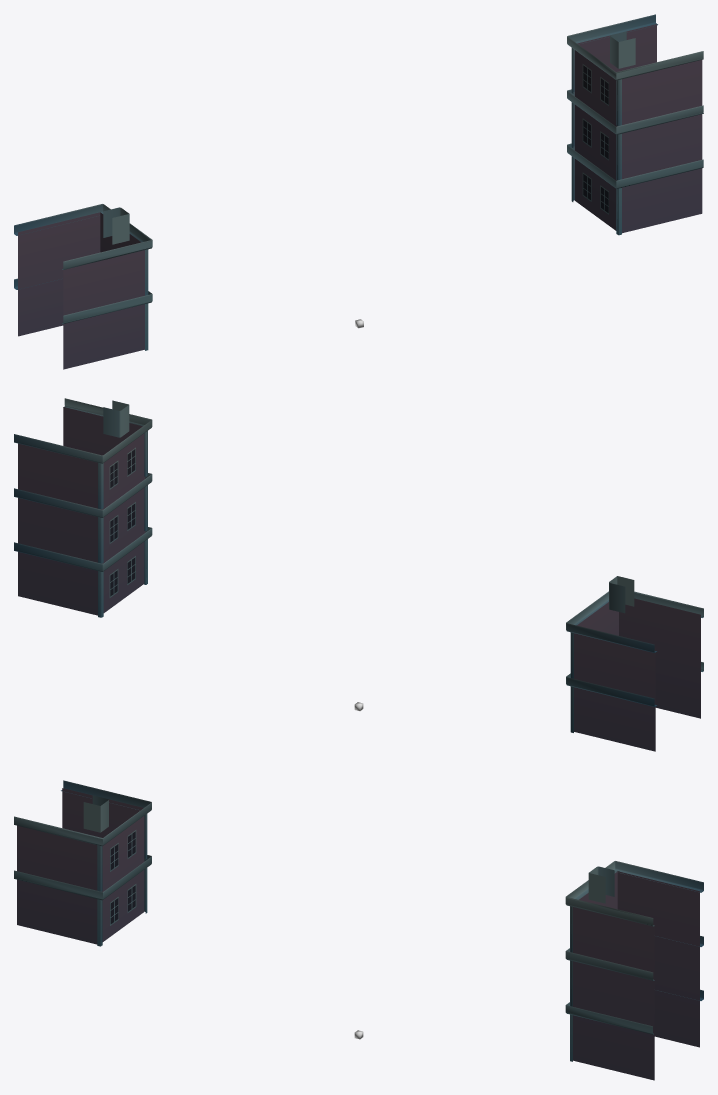
Rendered from FarBackBuilding01_new.fbx.
3 views of the same model, one above another, from view 1: azimuth 30°, elevation 25°; view 2: azimuth 150°, elevation 25°; view 3: azimuth 330°, elevation 25° (orthographic).
Parts seen in each view (by area): view 1: FarBackBuilding01; view 2: FarBackBuilding01; view 3: FarBackBuilding01.
Part boxes in pixels (x1=…): FarBackBuilding01: x1=14, y1=14, x2=703, y2=369; FarBackBuilding01: x1=14, y1=398, x2=703, y2=751; FarBackBuilding01: x1=14, y1=780, x2=703, y2=1080.
Size of the model in its own units: 7634 by 2674 by 1017.
